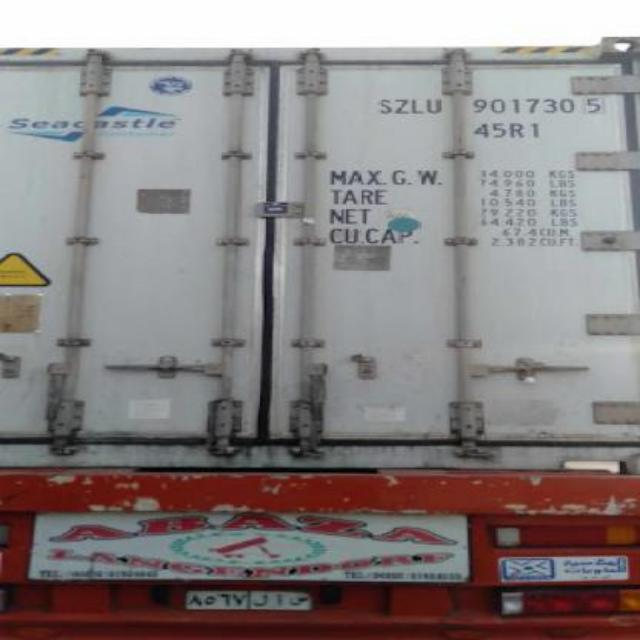0: (558, 98, 578, 114), (490, 98, 508, 114)
1: (511, 97, 524, 115)
3: (544, 96, 560, 114)
5: (588, 98, 602, 114)
7: (524, 97, 544, 113)
9: (472, 98, 490, 114)
L: (410, 97, 428, 115)
S: (376, 98, 394, 114)
U: (424, 99, 444, 115)
Z: (394, 99, 410, 115)
